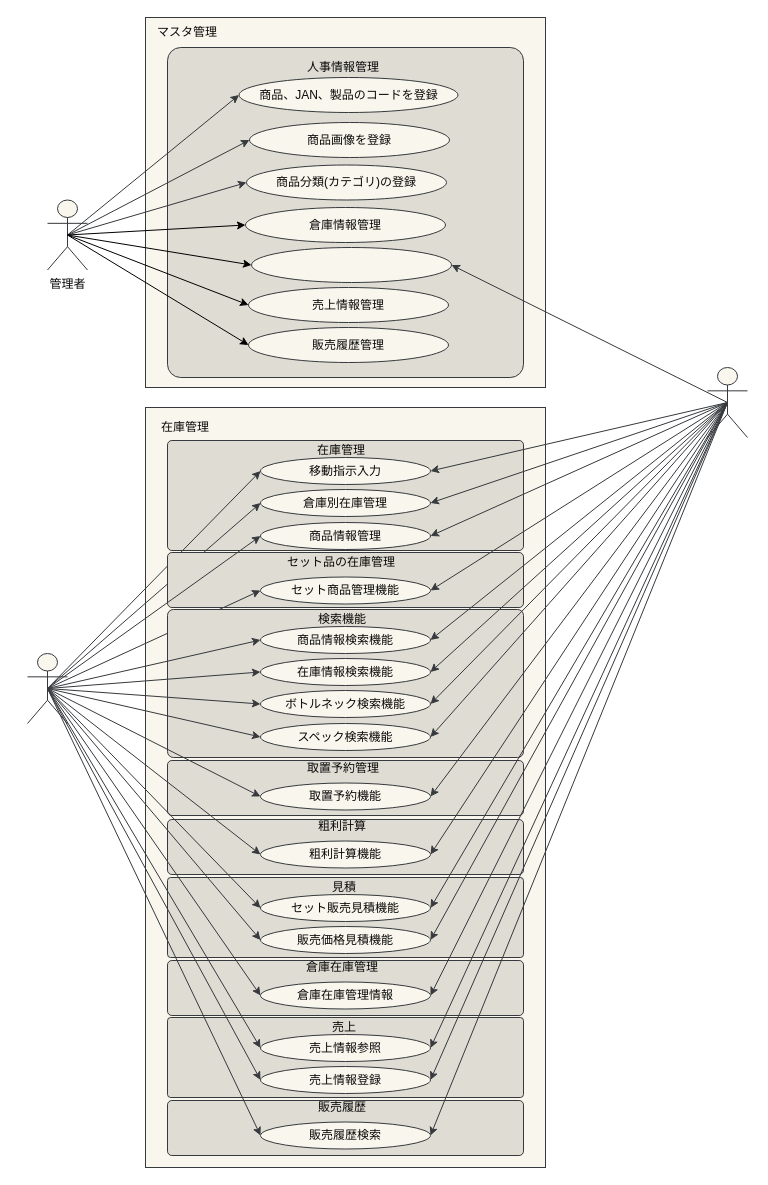
Some shapes in this 768 by 1185 pixel diagram are drawn without their labels. Each missing label, with the centre of its shape:
"ベンチマークマスタ管理" goes at point 351,264.
"正規社員" goes at point 727,402.
"非正規社員" goes at point 47,688.
